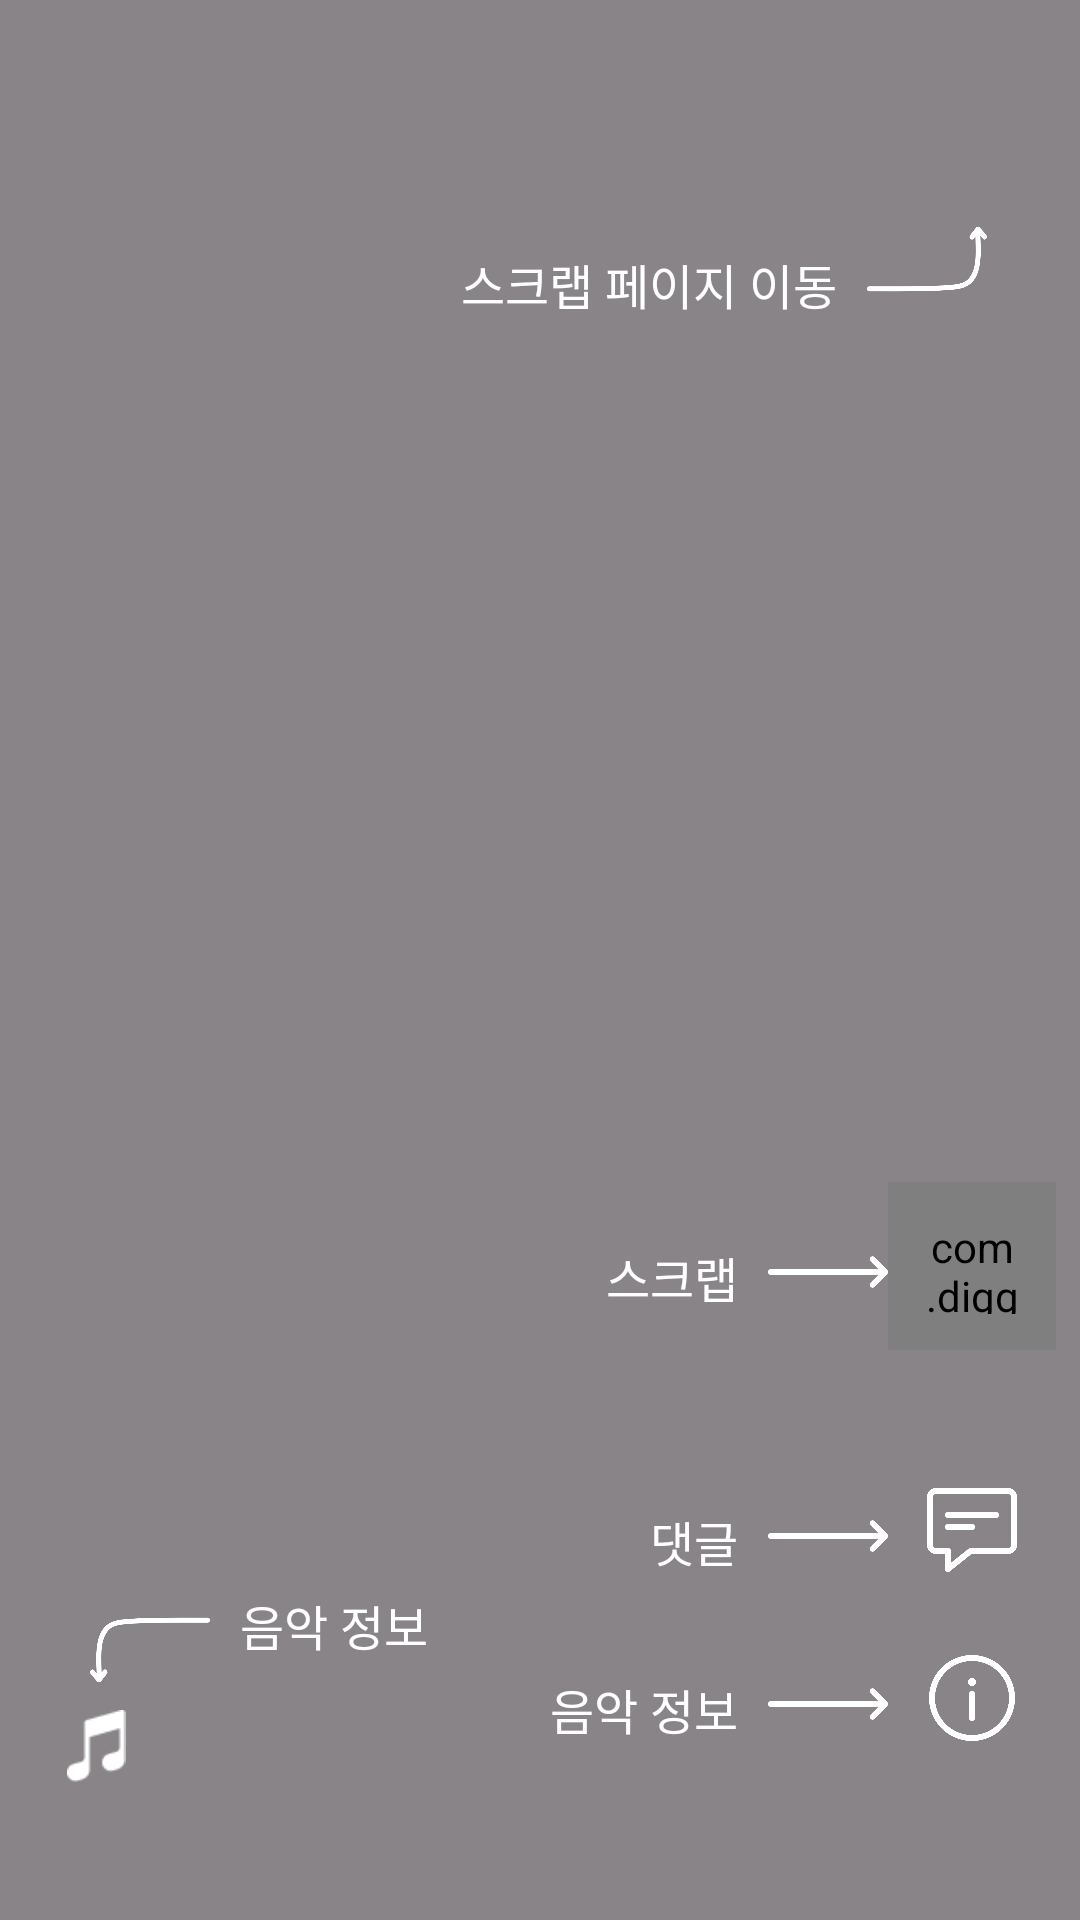

Screen size 1080×1920. Icon name, then its center in pixels as (x,y):
comment: (972,1530)
info: (972,1698)
music: (96,1746)
tutorial arrow: (828,1272), (828,1536), (828,1704)
